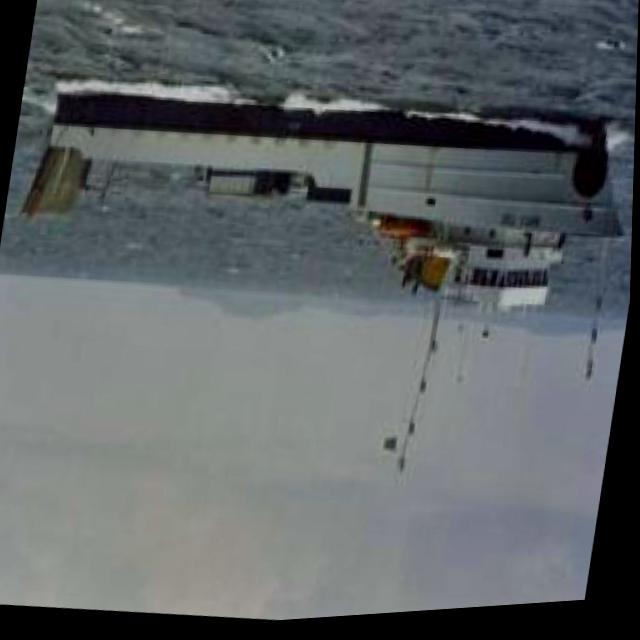ship2: (21, 91, 630, 482)
